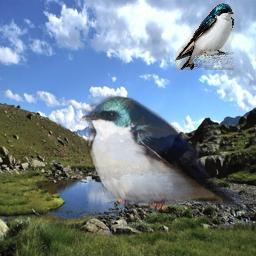Swallow: (80, 94, 253, 212), (175, 3, 234, 70)
